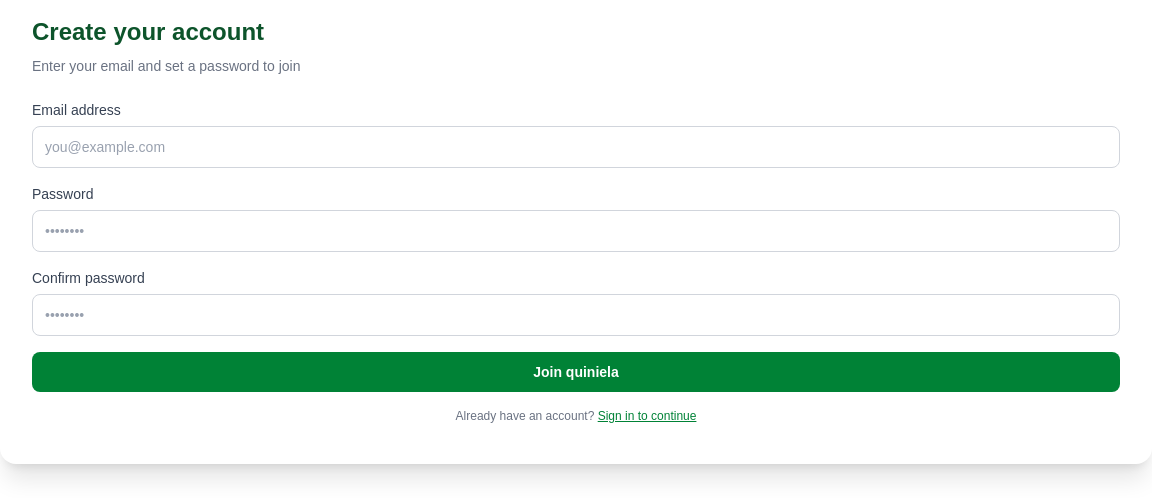
InviteAcceptanceFlow (shortCode) › shows pending approval state after successful new-user registration
Type "new@example.com" into the field labelled "Email address" at (576, 147), box [32, 126, 1120, 168]
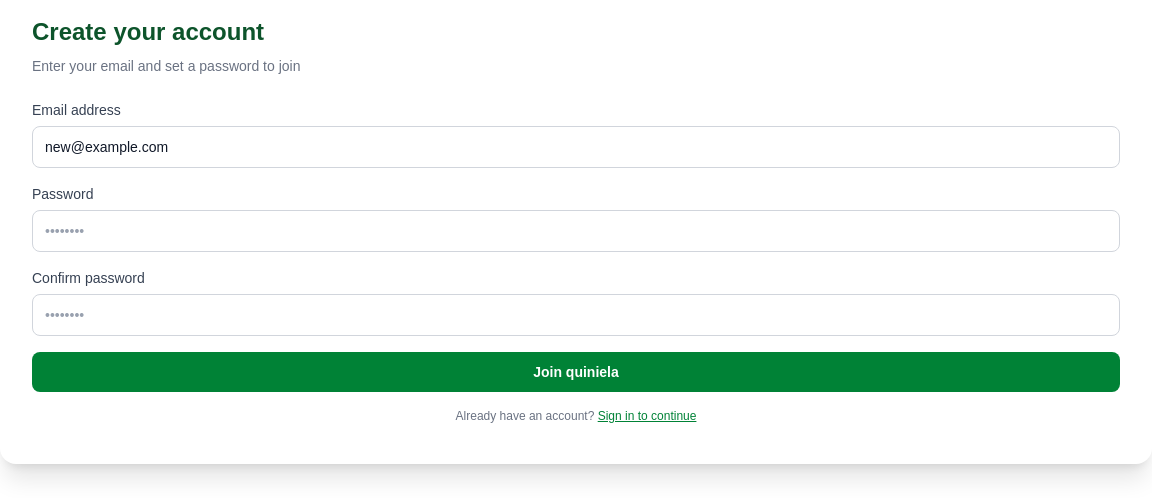
Type "password123" into the password field labelled "Password" at (576, 231), box [32, 210, 1120, 252]
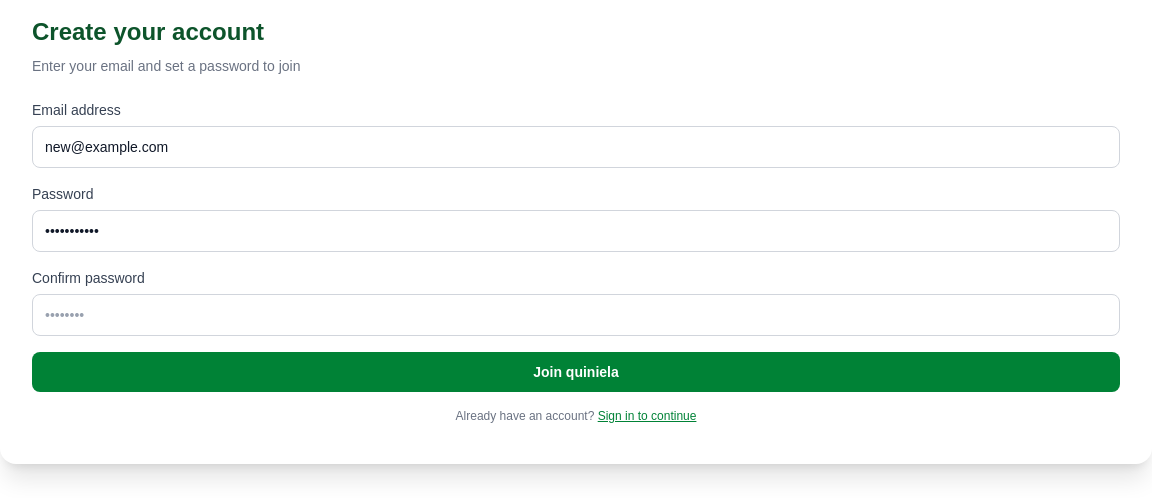
Type "password123" into the password field labelled "Confirm password" at (576, 315), box [32, 294, 1120, 336]
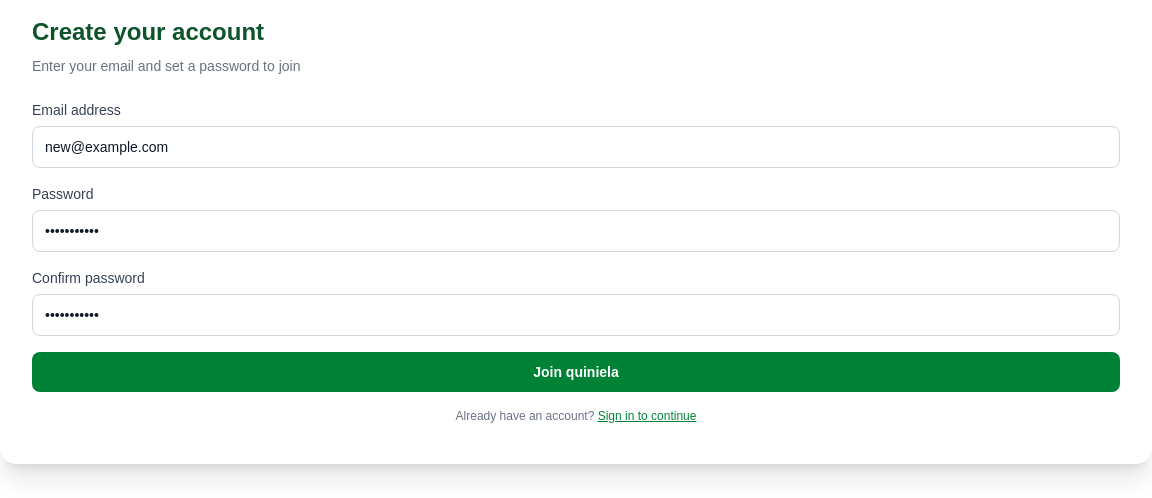
Submit the form labelled "Password"
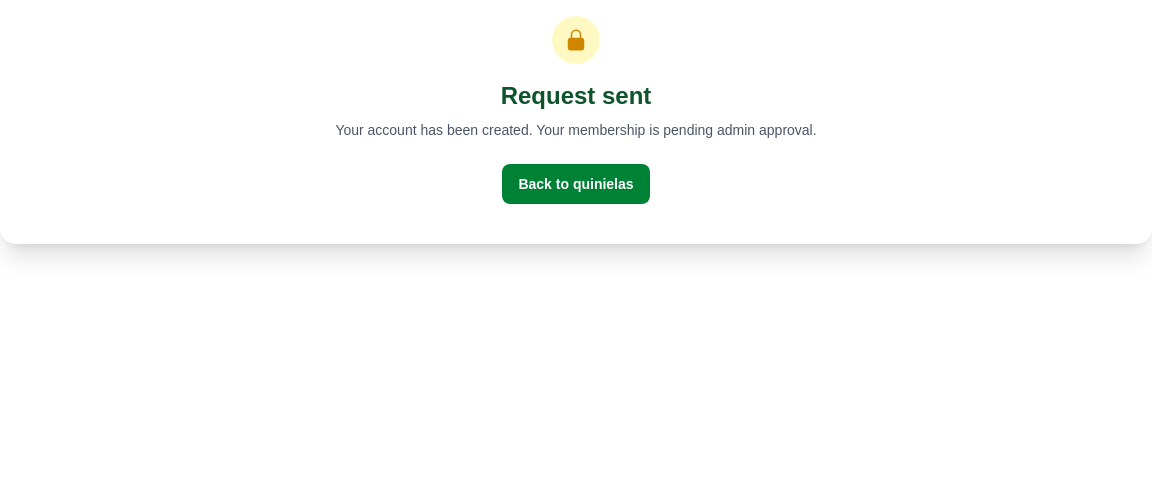
expect the heading "Request sent" is shown: met, box [501, 82, 651, 109]
expect the text "Your account has been created. Your membership is pending admin approval." is shown: met, box [335, 122, 817, 138]
